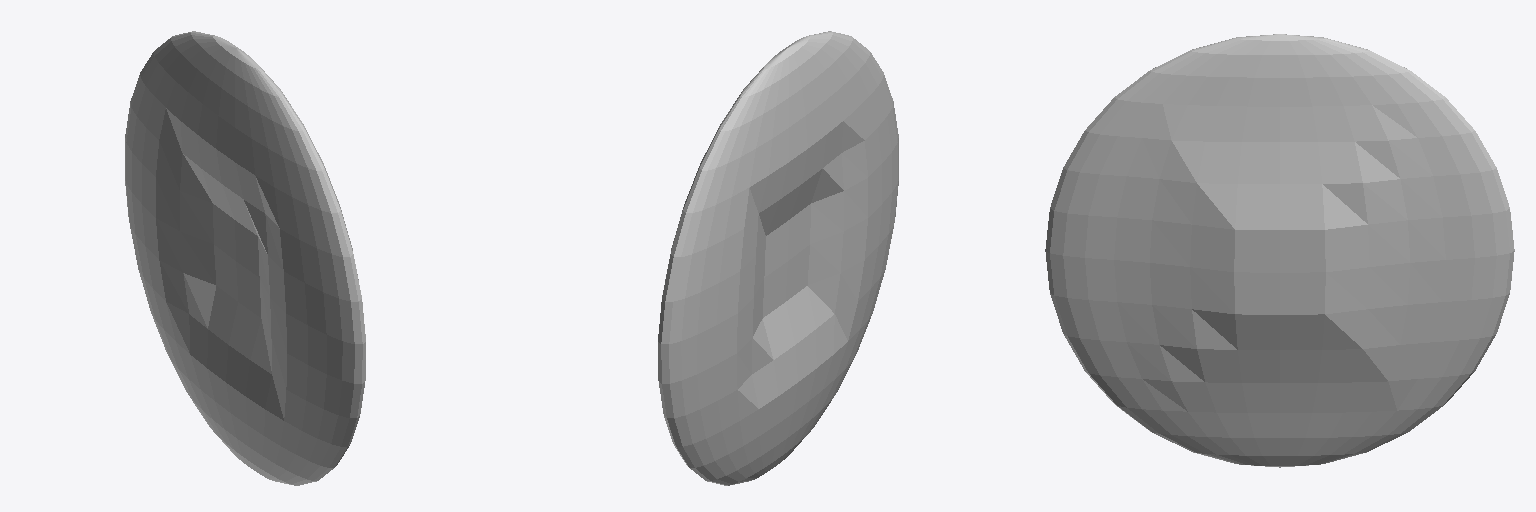
The model's file is shield_000016.obj.
3 views of the same model, side by side, from view 1: azimuth 30°, elevation 25°; view 2: azimuth 150°, elevation 25°; view 3: azimuth 270°, elevation 25° (orthographic).
Bounding box in the file's own units: 0.3928 × 2 × 2.